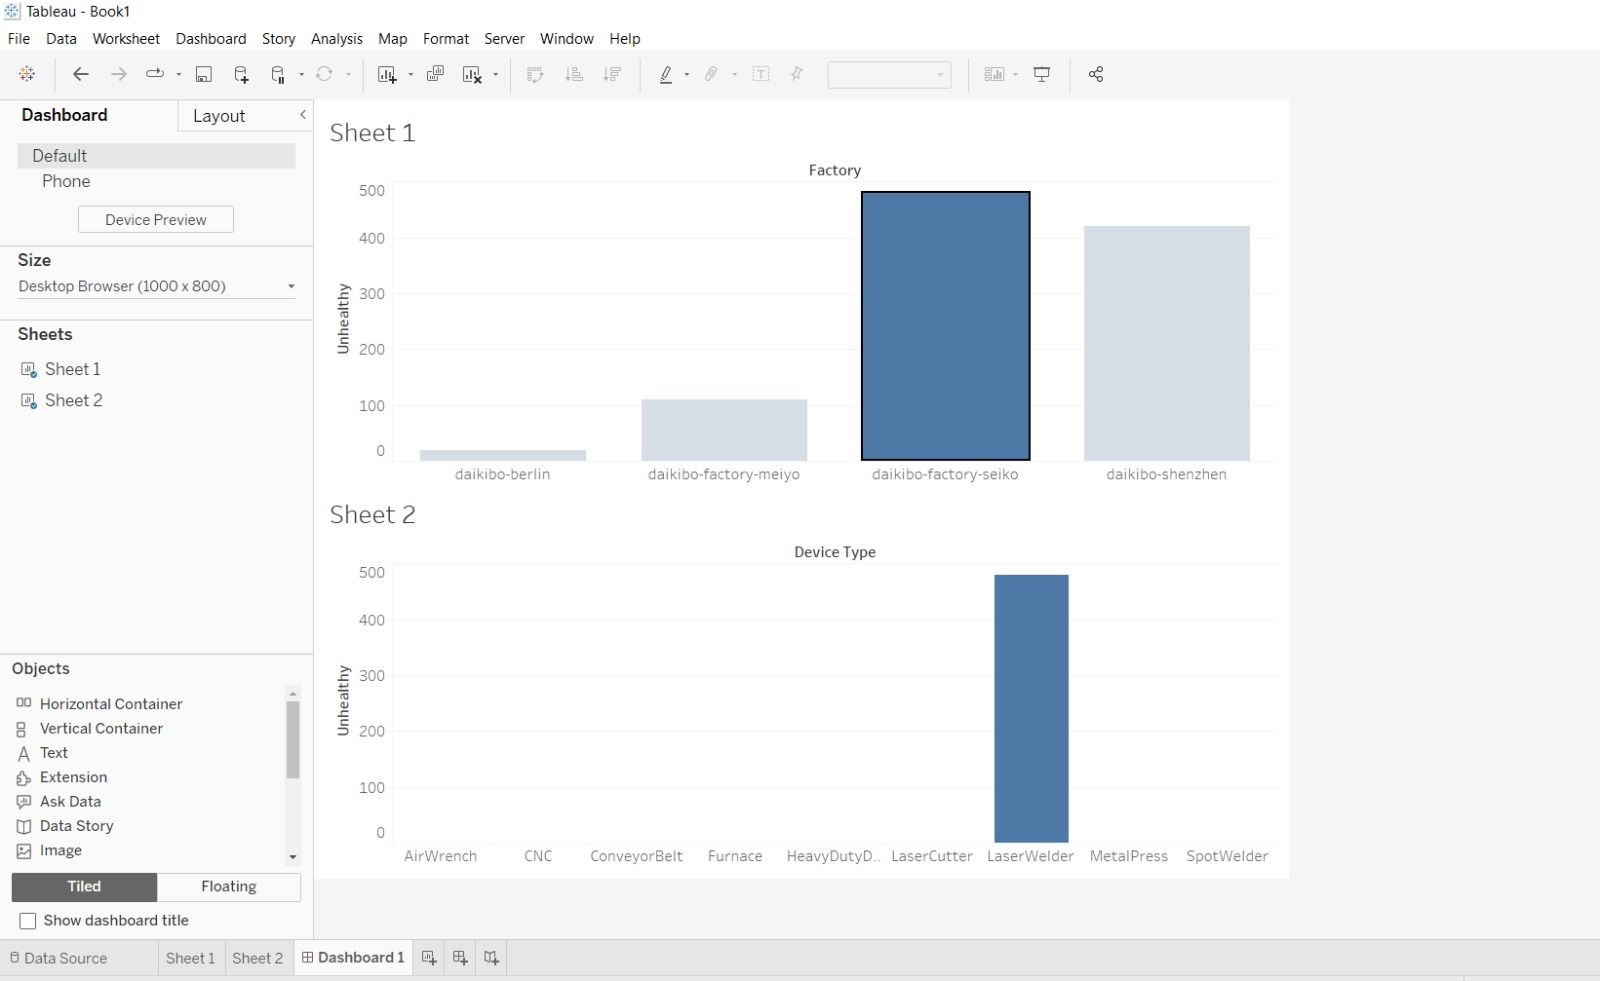

The page's visual inventory and layout, read from the dashboard file:
{"tool":"tableau","page":{"name":"Dashboard 1","canvas":[1000,800],"ordinal":0},"visuals":[{"type":"worksheet","title":"Sheet 1","mark":"Automatic","rows":["Calculation_1009087821747601408"],"cols":["factory"],"box":[8,8,984,392]},{"type":"worksheet","title":"Sheet 2","mark":"Automatic","rows":["Calculation_1009087821747601408"],"cols":["deviceType"],"box":[8,400,984,392]}]}

Visuals, with their boxes on the page's 1000x800 design canvas (x1, y1, x2, y2). These are canvas units, not pixel positions in the 1600x981 screenshot, which may show the page scaled, cropped or inside an application window:
"Sheet 1" worksheet: {"x1": 8, "y1": 8, "x2": 992, "y2": 400}
"Sheet 2" worksheet: {"x1": 8, "y1": 400, "x2": 992, "y2": 792}
